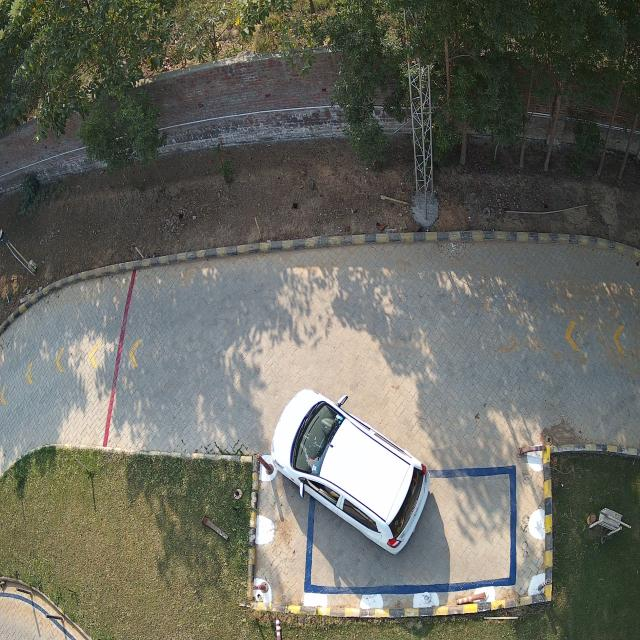car: (270, 386, 430, 555)
